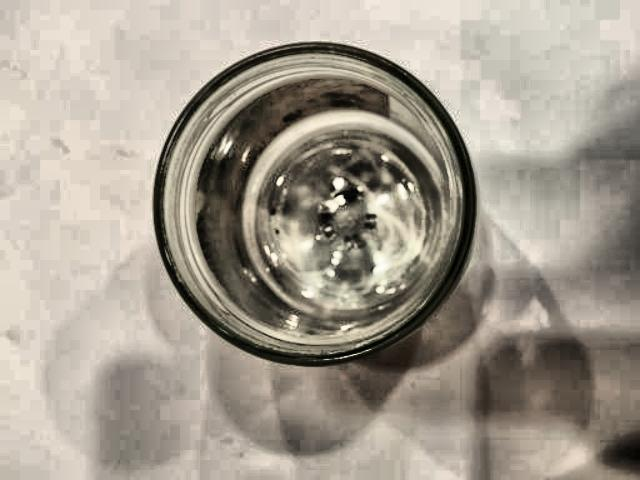Almennt: (140, 32, 481, 400)
